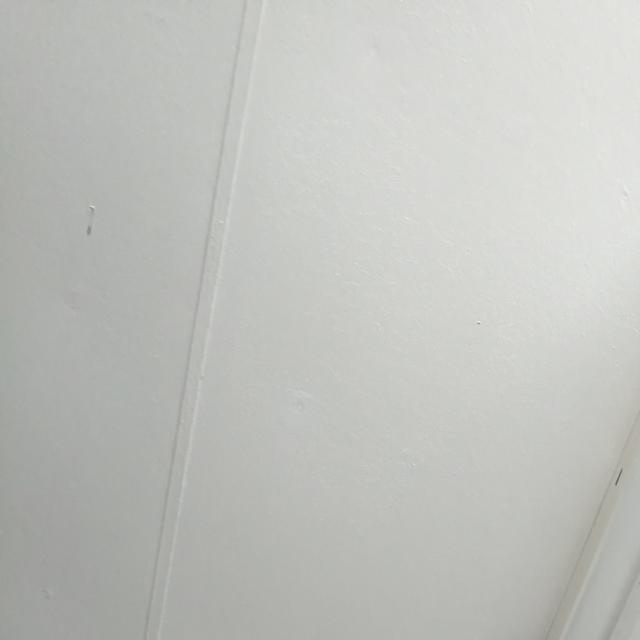fluorescent tube: (377, 120, 640, 640)
